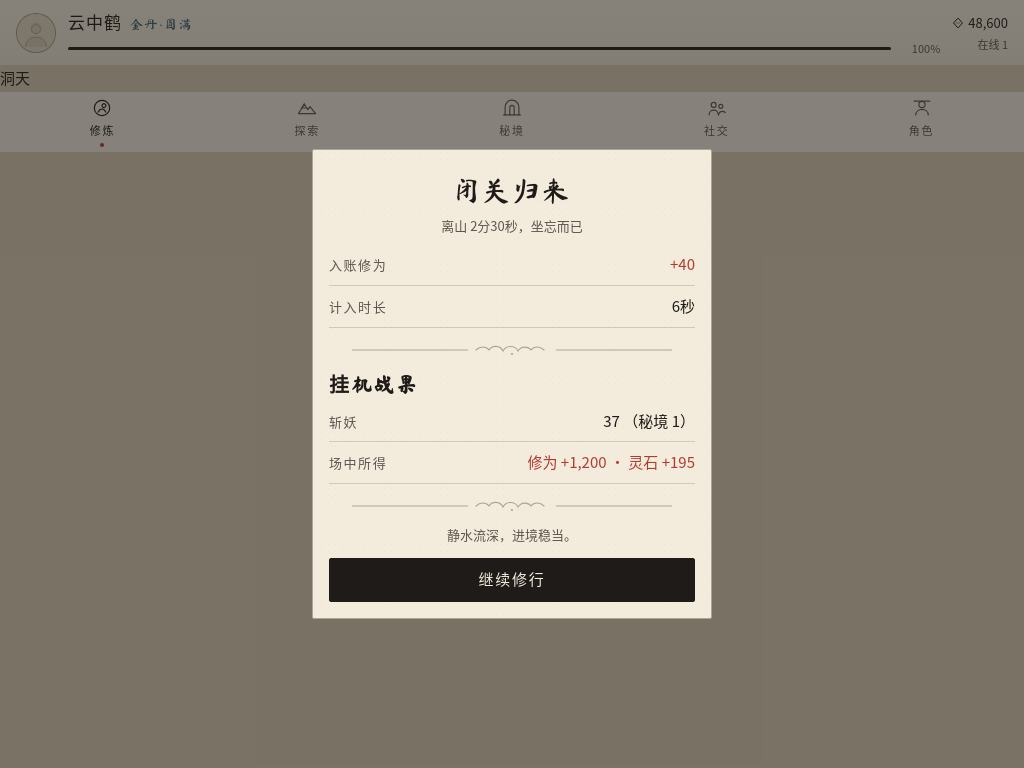
AppShell 闭关归来 › keeps the tally in the store after 继续修行, for the 探索 HUD
The width and height of the screenshot is (1024, 768).
Check: the dialog is shown, box [312, 150, 712, 619]
Step 1. Click the button "继续修行" → (512, 580), box [329, 558, 695, 602]
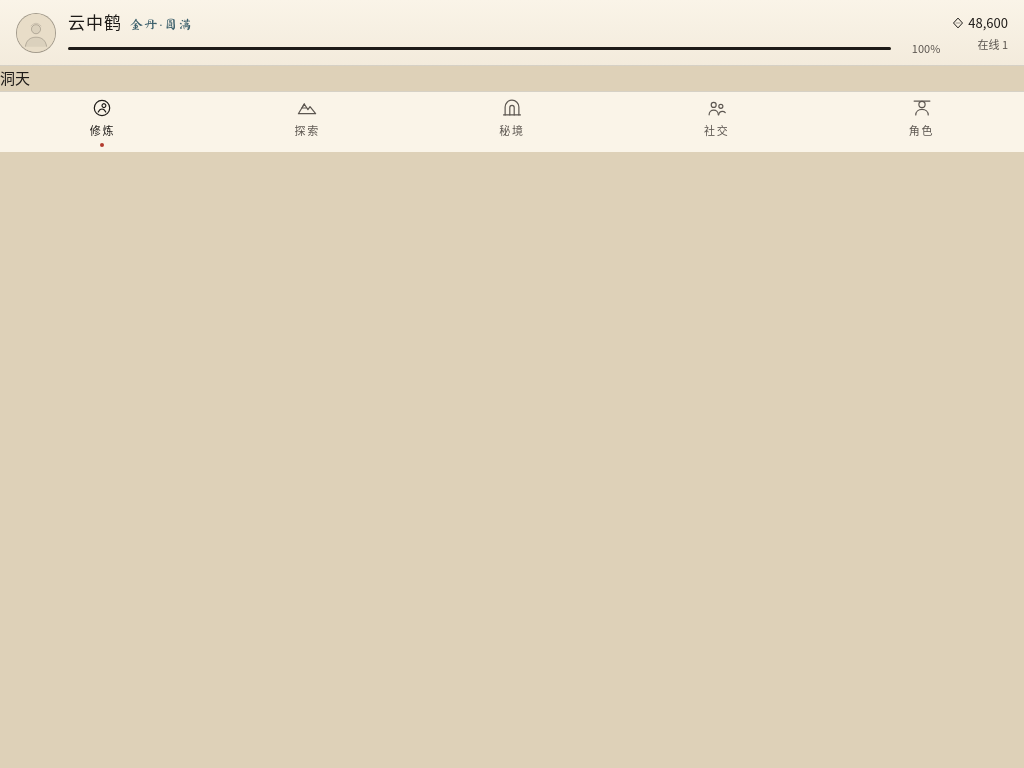
Check: the dialog is gone
